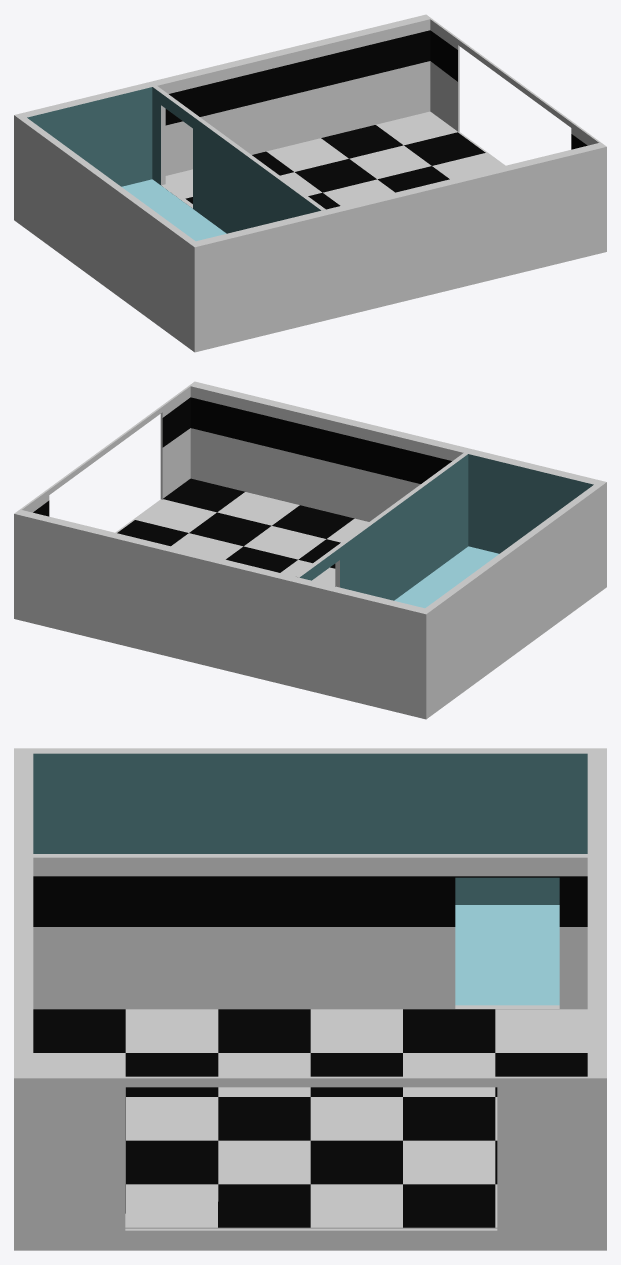
Rendered from Kitchen 1.fbx.
3 renders of one model, top to bottom at view 1: azimuth 30°, elevation 25°; view 2: azimuth 150°, elevation 25°; view 3: azimuth 270°, elevation 25°, orthographic. The views are drawn at different scales.
Parts seen in each view (by area): view 1: Cube; view 2: Cube; view 3: Cube.
Boxes of the visible parts, box(x1,y1,x2,y2) form: Cube: box(14, 14, 606, 352); Cube: box(14, 381, 606, 719); Cube: box(14, 748, 606, 1250).
Bounding box in the file's own units: 5060 × 1235 × 3843.
